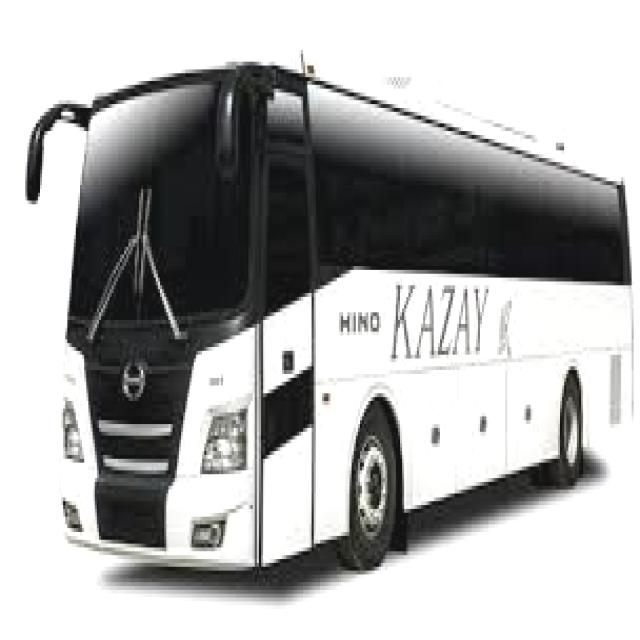bus: (15, 55, 640, 591)
